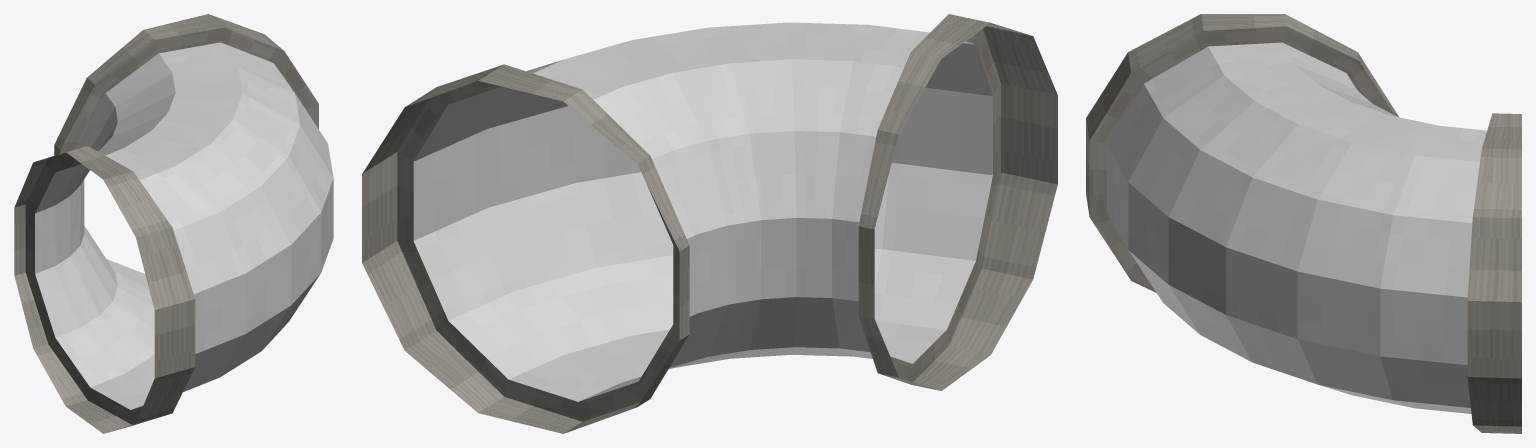
File: connection_20.obj
3 views of the same model, side by side, from view 1: azimuth 30°, elevation 25°; view 2: azimuth 150°, elevation 25°; view 3: azimuth 270°, elevation 25° (orthographic). The views are drawn at different scales.
Bounding box in the file's own units: 0.7812 × 0.5625 × 0.7812.
